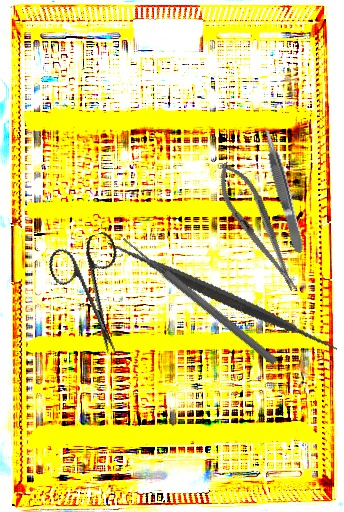Iris Scissors: (43, 229, 147, 364)
Needle Holder: (207, 155, 309, 299)
Pusher: (119, 233, 279, 367)
Spatula Surgical: (103, 179, 341, 412)
Tissue Forceps: (259, 124, 306, 255)
